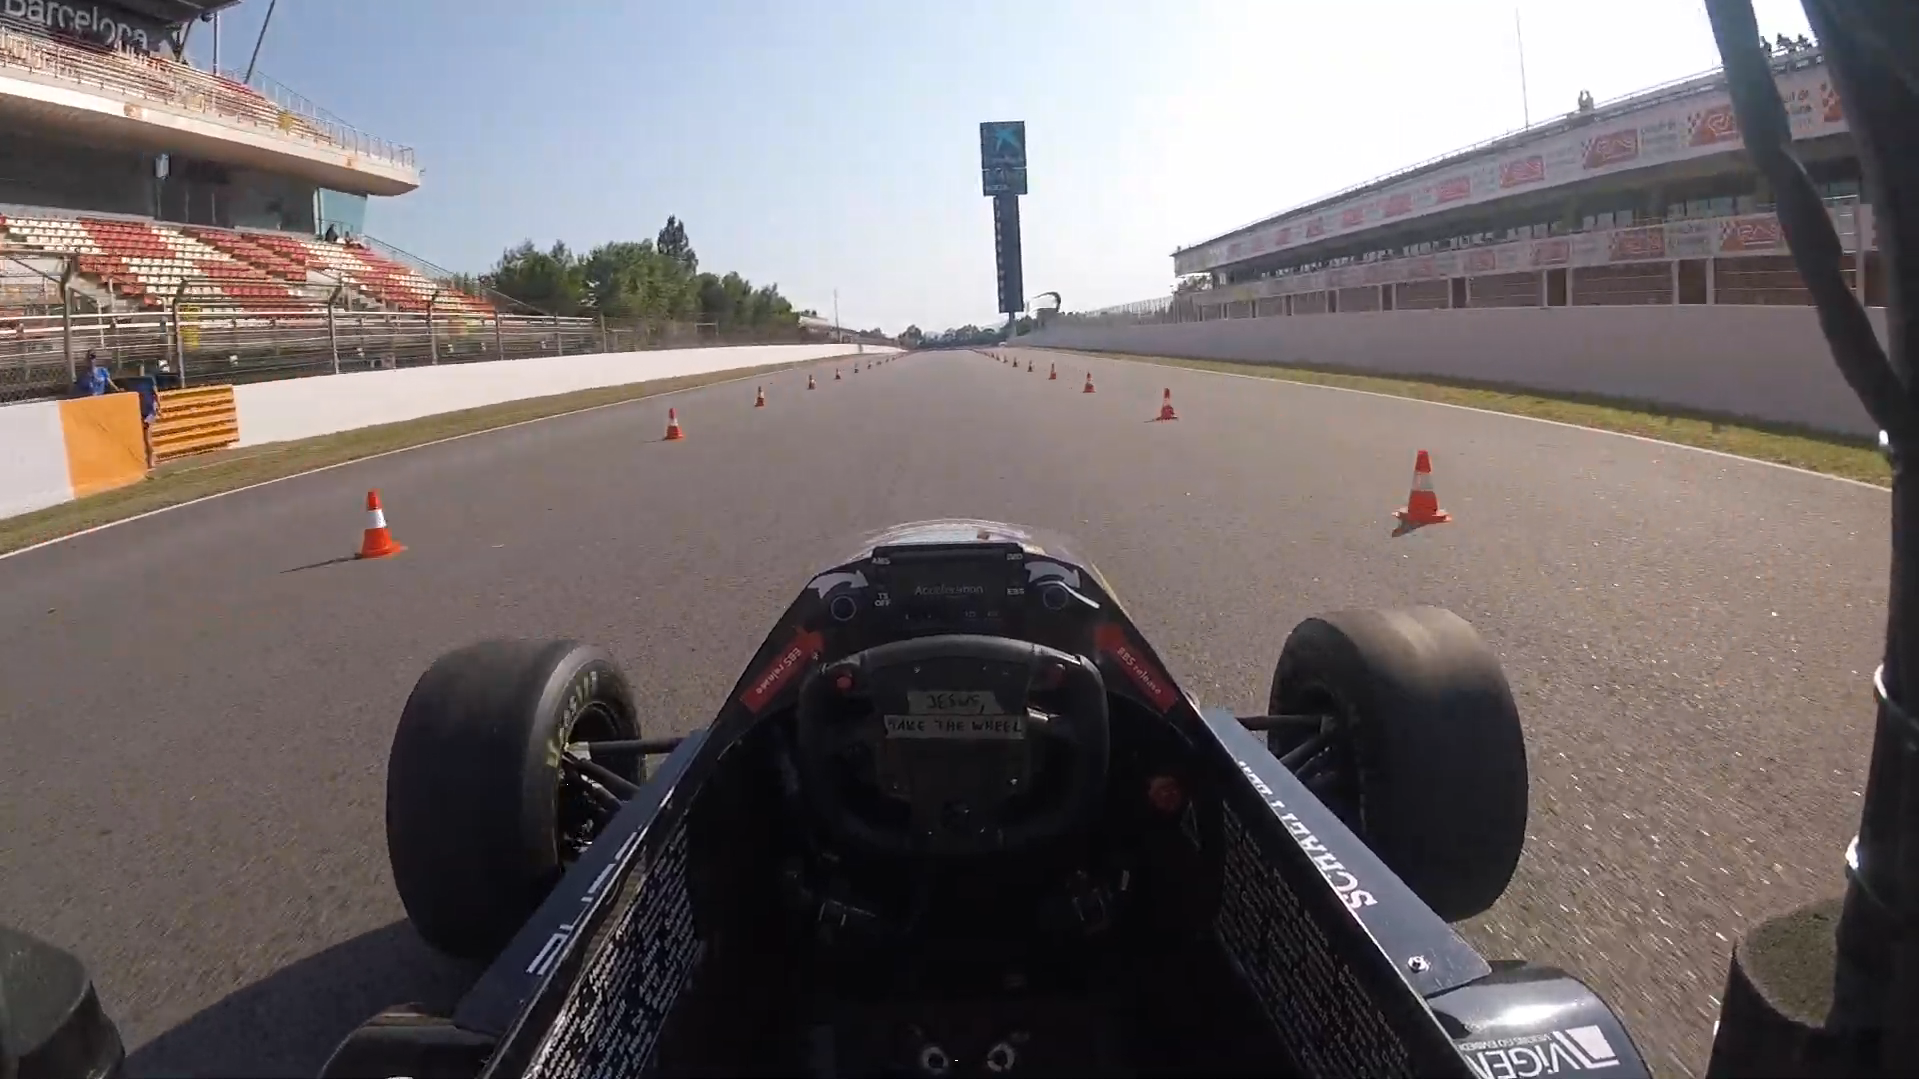cone-orange: (1393, 449, 1451, 523), (356, 487, 409, 559), (1156, 387, 1180, 420), (663, 407, 685, 439), (753, 385, 768, 406), (1082, 372, 1098, 393), (807, 375, 818, 390), (1048, 364, 1058, 379), (834, 369, 842, 379), (1027, 361, 1035, 372)
